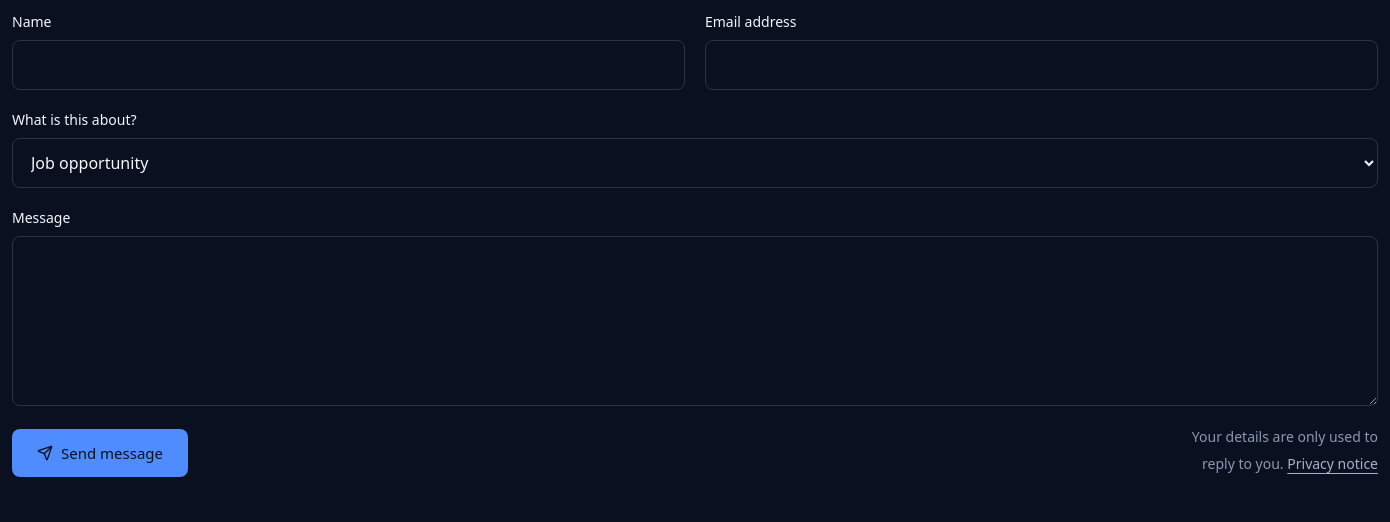
Scenario: ContactForm › rejects a malformed email address
Type "Amina Otieno" into the field labelled "Name".
click(348, 65); type("Amina Otieno")  # box [12,40,685,90]
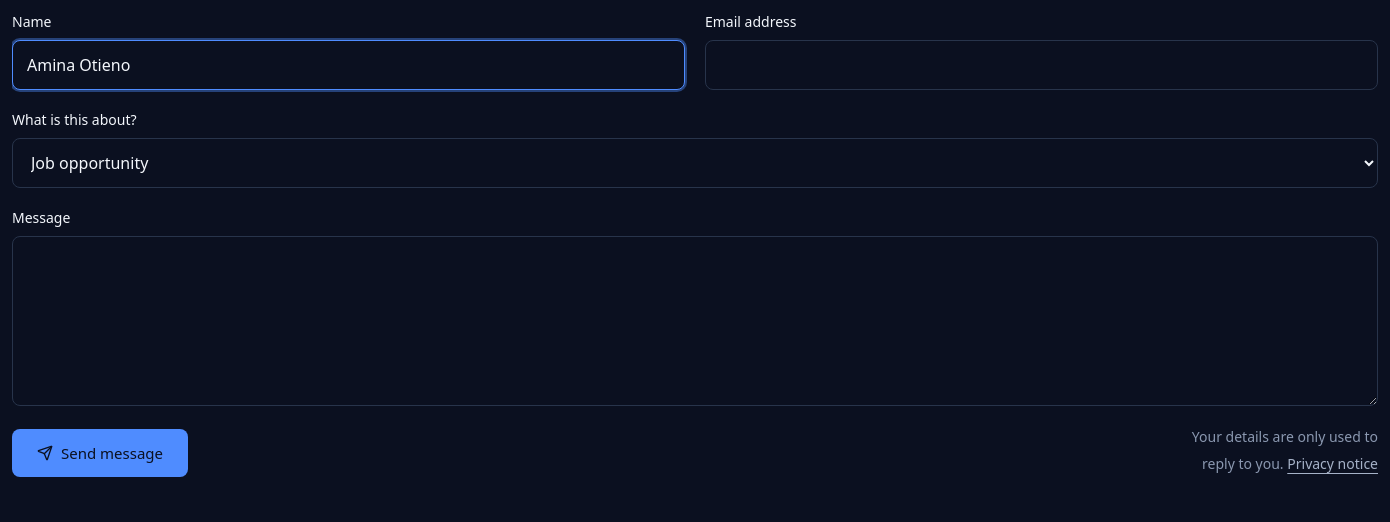
Type "not-an-email" into the field labelled "Email address".
click(1042, 65); type("not-an-email")  # box [705,40,1378,90]
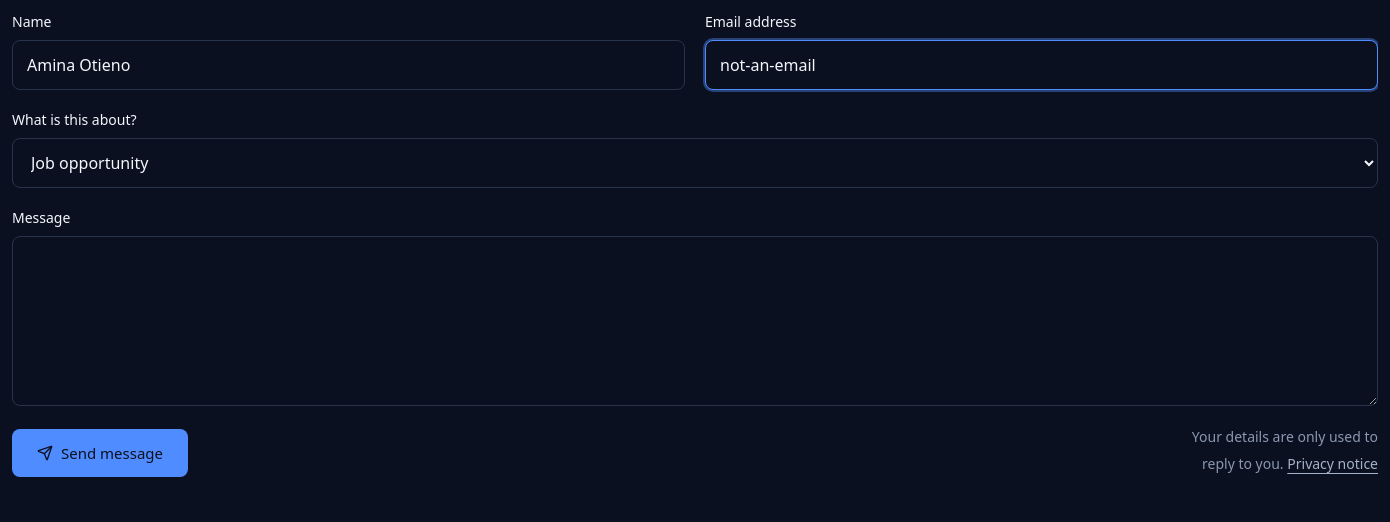
Type "I would like to talk about a role." into the text box labelled "Message".
click(695, 321); type("I would like to talk about a role.")  # box [12,236,1378,406]
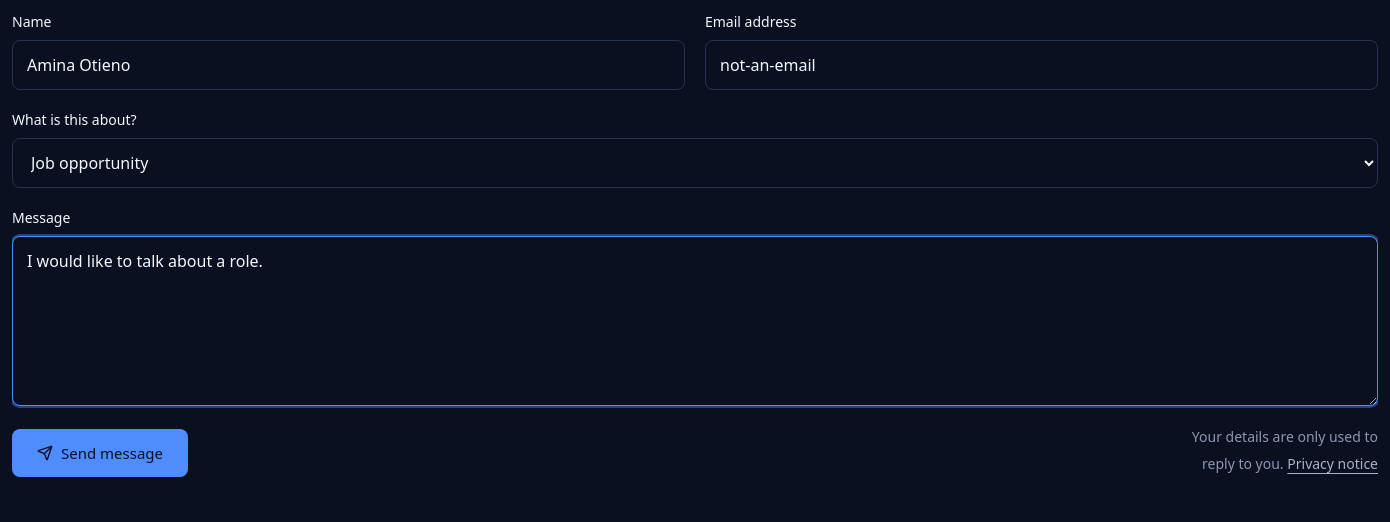
Click the button "Send message".
click(100, 453)  # box [12,429,188,477]
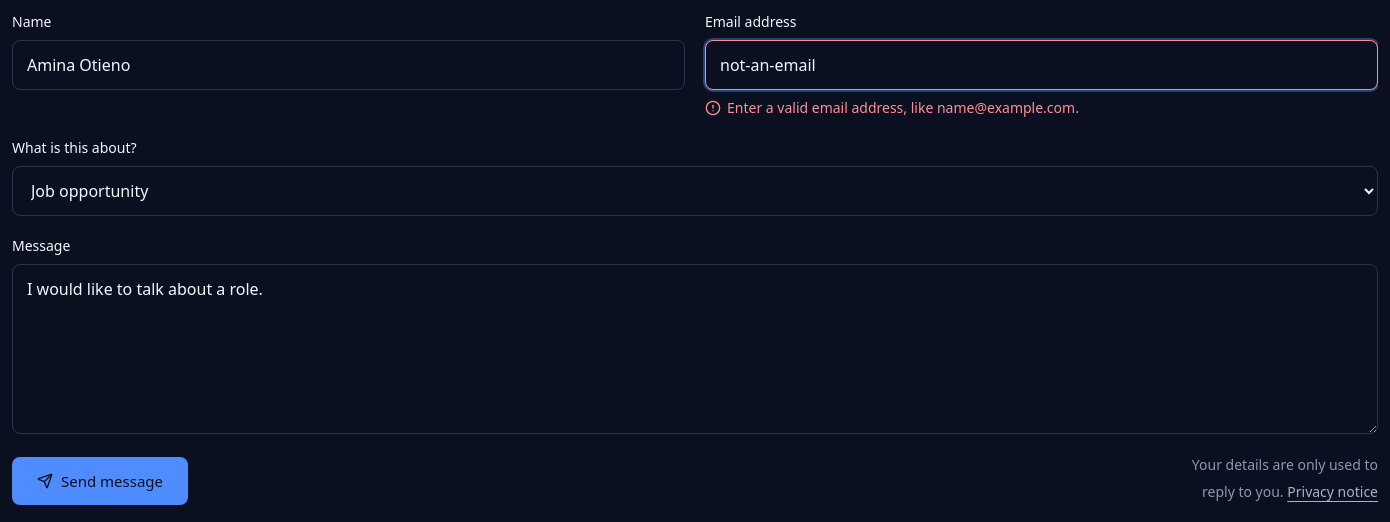
Expected: the text "Enter a valid email address, like name@example.com." is shown, [705,98,1079,117]
